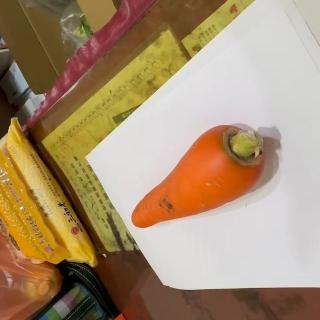carrot: (127, 125, 269, 229)
